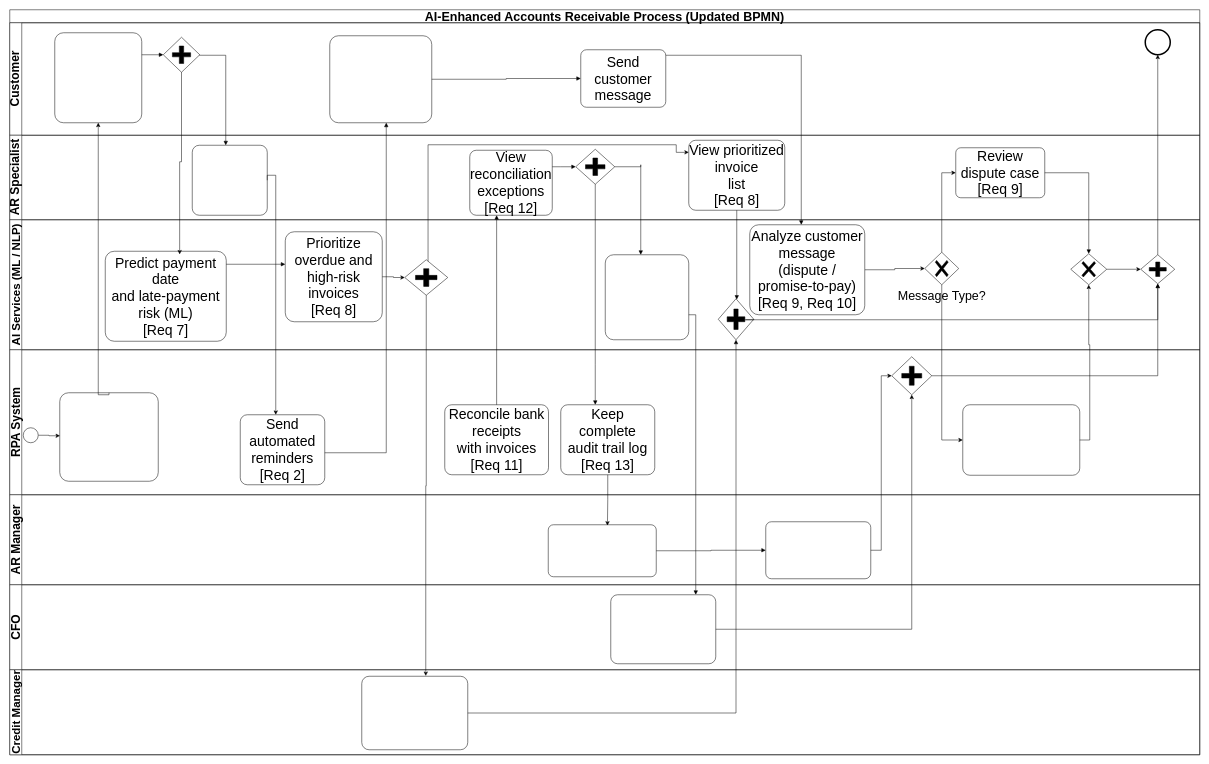
Image size: 1209x764. Some labels were removed from this diagram. Here are the shapes that lost their labels. From the top down, the centre of each, then its label:
(98,77): Receive invoice via preferred channel [Req 4]
(380,79): Receive automated payment reminders [Req 1]
(229,180): Configure reminder schedule [Req 2]
(647,297): Generate AI-based cashflow forecast [Req 6]
(108,436): Deliver invoice via preferred channel [Req 4]
(1021,439): Update promise-to-pay date [Req 10]
(602,550): Generate / view AR KPI reports [Req 5]
(818,550): View audit trail report [Req 14]
(663,629): View AI-based cashflow forecast [Req 6]
(414,713): Review risky customer warnings [Req 3]
